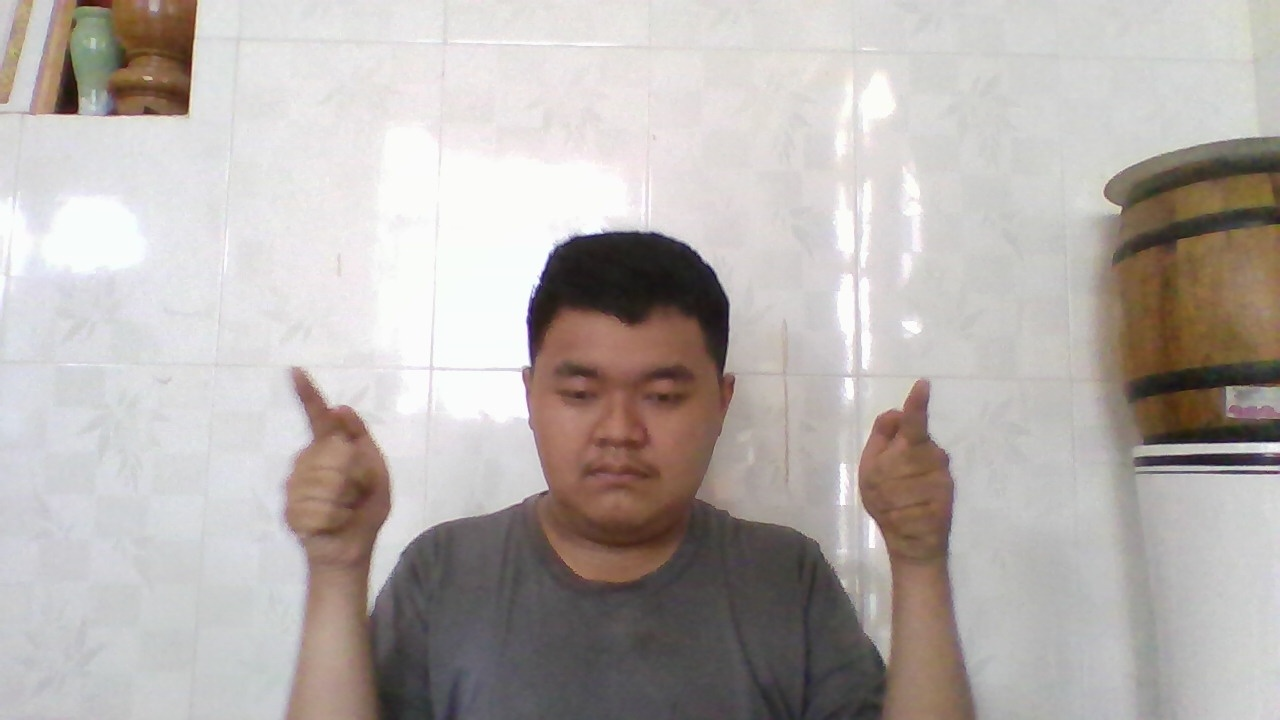G: (277, 358, 396, 563), (854, 369, 960, 557)
